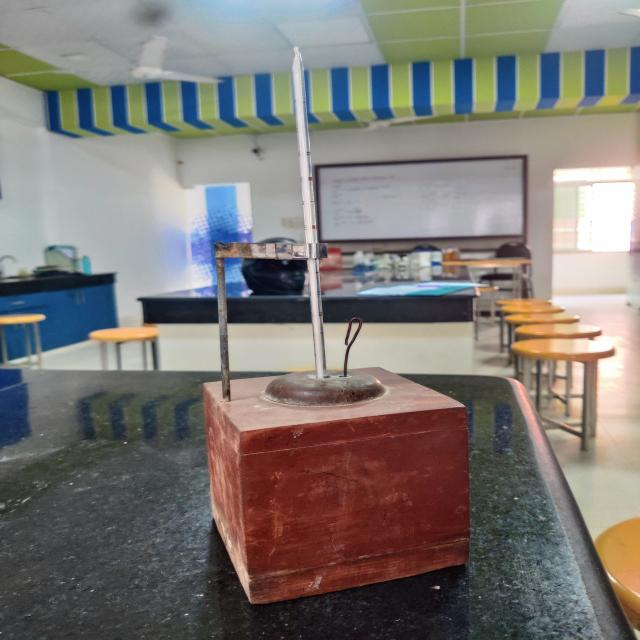Calorimeter: (171, 20, 509, 633)
